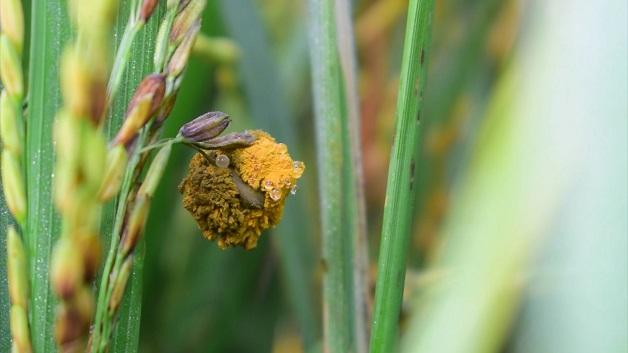False Smut: (165, 120, 295, 253)
